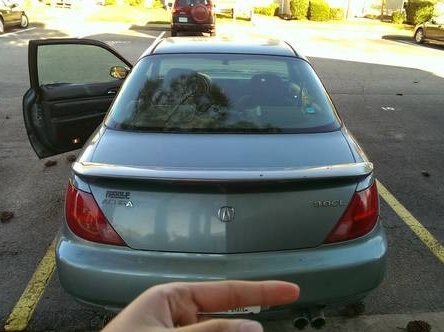acura: (15, 30, 388, 280)
